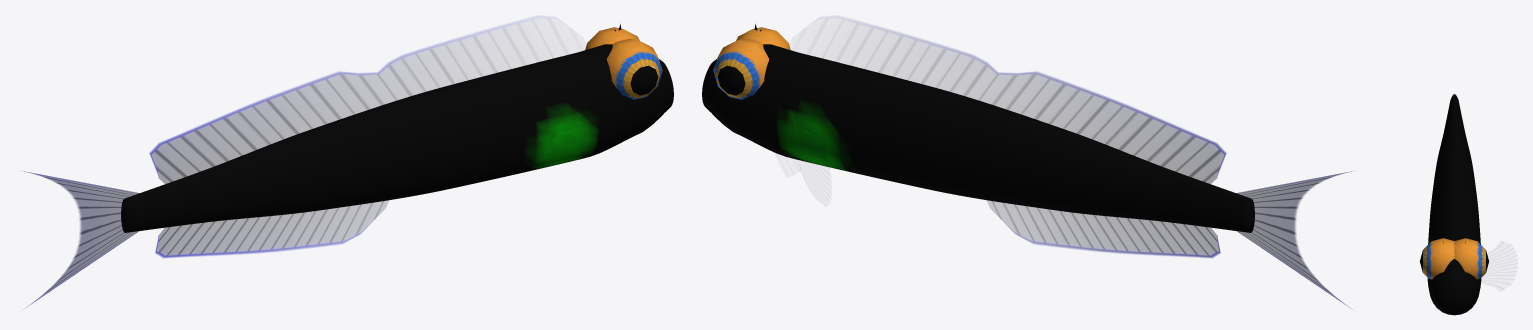
The model's file is midas_blenny.glb.
3 views of the same model, side by side, from view 1: azimuth 30°, elevation 25°; view 2: azimuth 150°, elevation 25°; view 3: azimuth 270°, elevation 25° (orthographic). The views are drawn at different scales.
Visible parts, largest first — view 1: Body, FinDorsal, FinAnal, FinCaudal, EyeR, EyeL; view 2: Body, FinDorsal, FinAnal, FinCaudal, EyeL, EyeR; view 3: Body, EyeL, EyeR.
Part boxes in pixels (<box>): Body: <box>121,24,673,232</box>; FinDorsal: <box>149,21,540,184</box>; FinAnal: <box>155,201,388,257</box>; FinCaudal: <box>22,171,139,307</box>; EyeR: <box>607,38,662,99</box>; EyeL: <box>585,27,639,50</box>; Body: <box>702,24,1254,232</box>; FinDorsal: <box>835,21,1226,184</box>; FinAnal: <box>987,201,1220,257</box>; FinCaudal: <box>1236,171,1353,307</box>; EyeL: <box>713,38,768,99</box>; EyeR: <box>736,27,790,50</box>; Body: <box>1427,94,1481,315</box>; EyeL: <box>1454,238,1488,279</box>; EyeR: <box>1420,238,1454,279</box>.
Size of the model in its own units: 1 by 0.268 by 0.2341.
4 materials, 3 textured.
